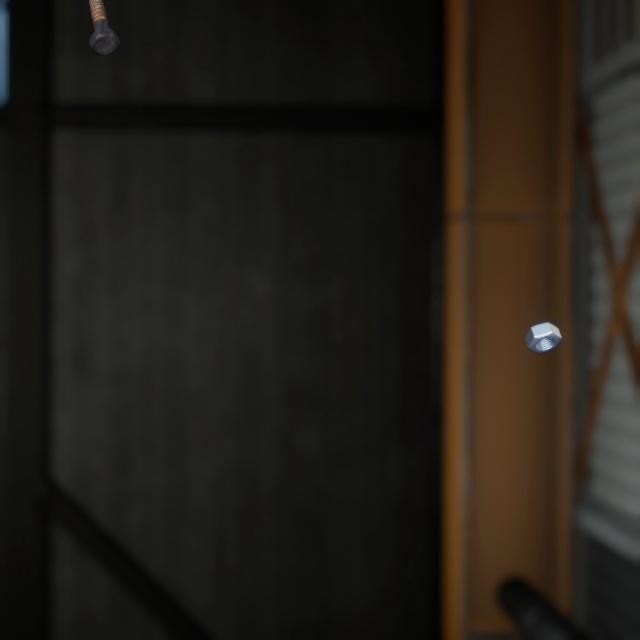bolt: (84, 0, 124, 51)
nut: (519, 299, 566, 340)
